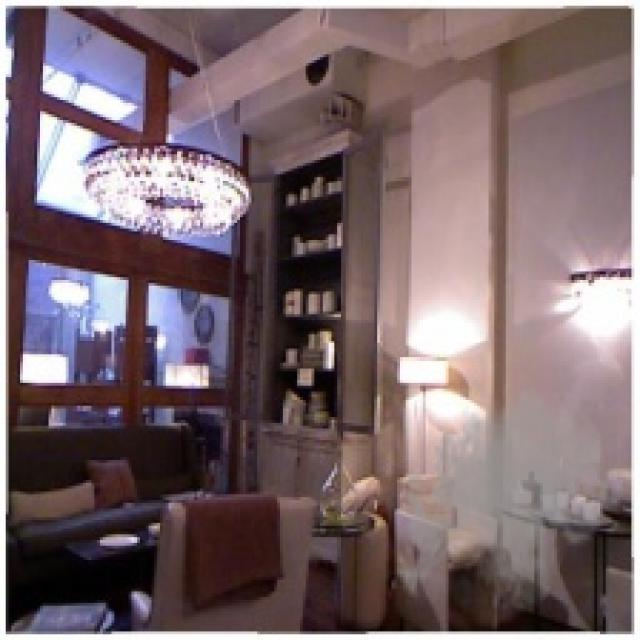smoke: (391, 383, 626, 631)
